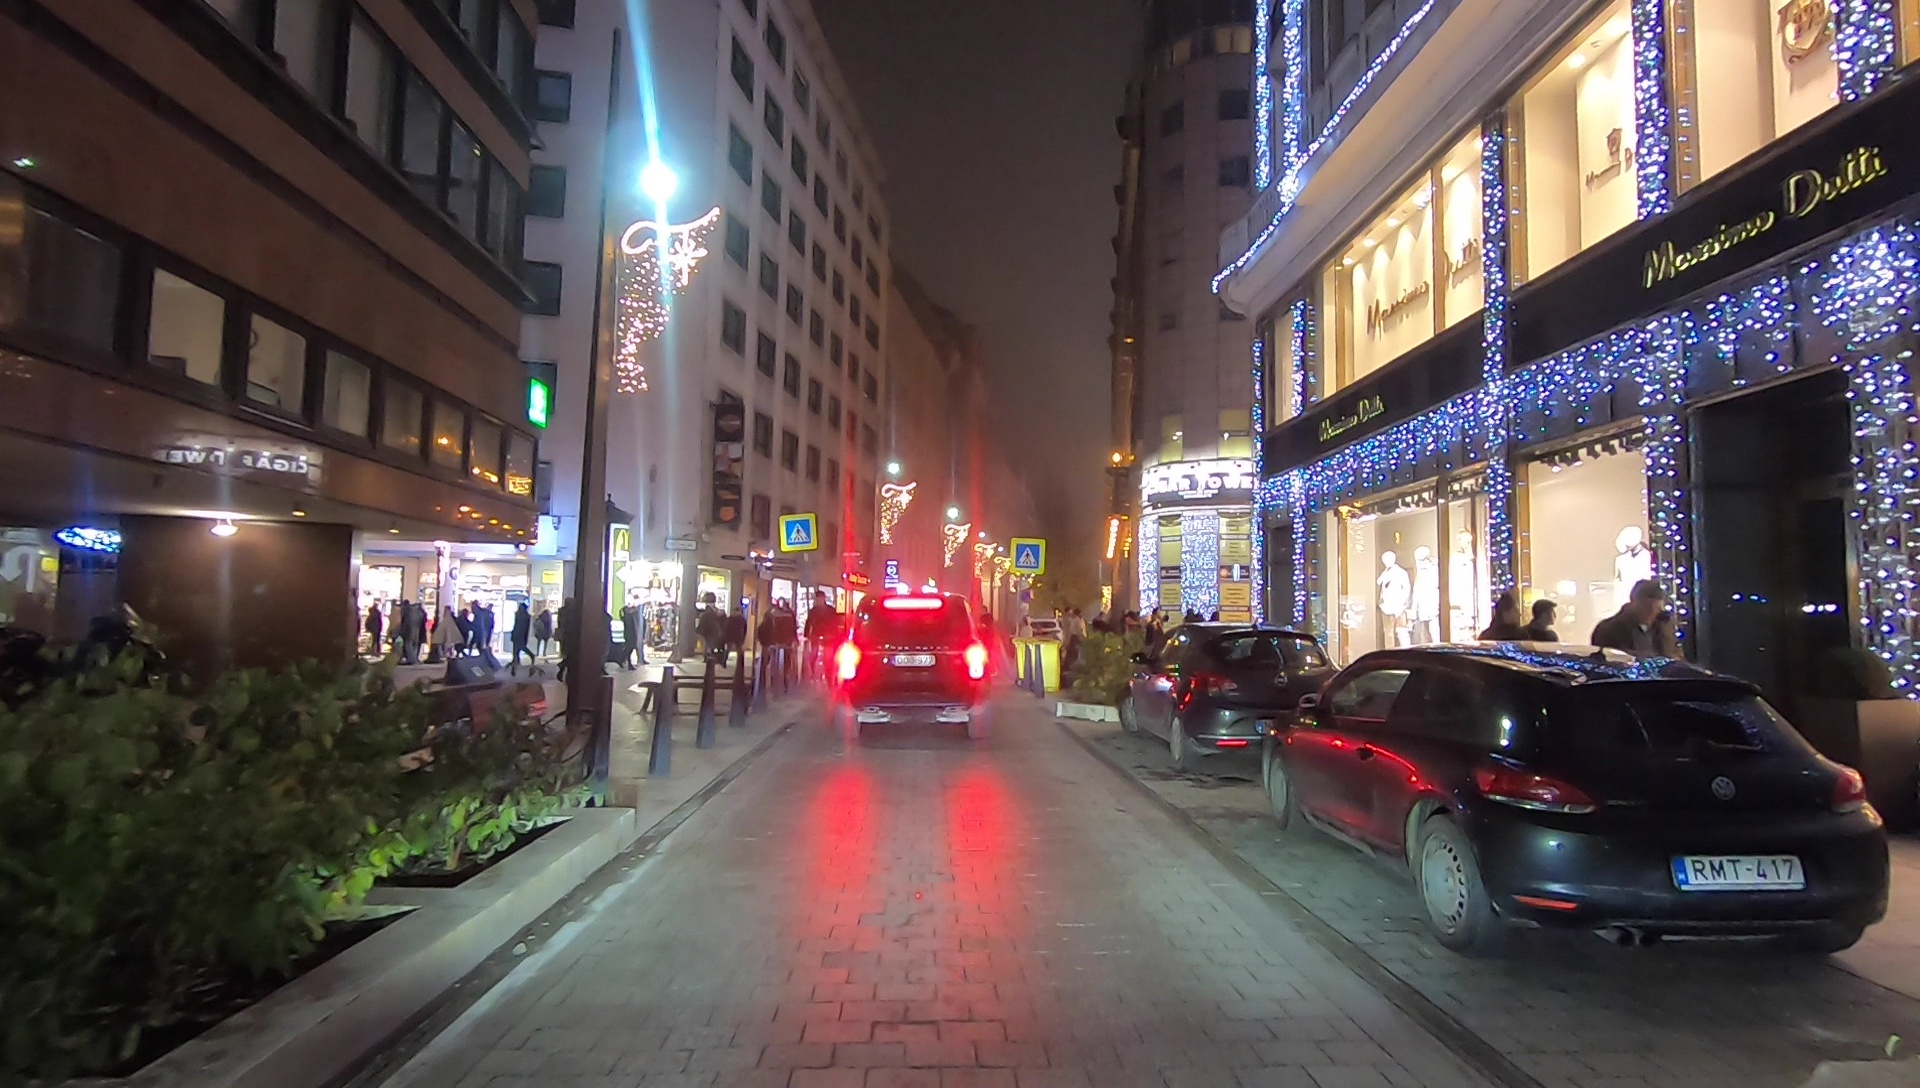person: (1593, 584, 1688, 793), (1484, 595, 1523, 749), (1525, 597, 1564, 745)
